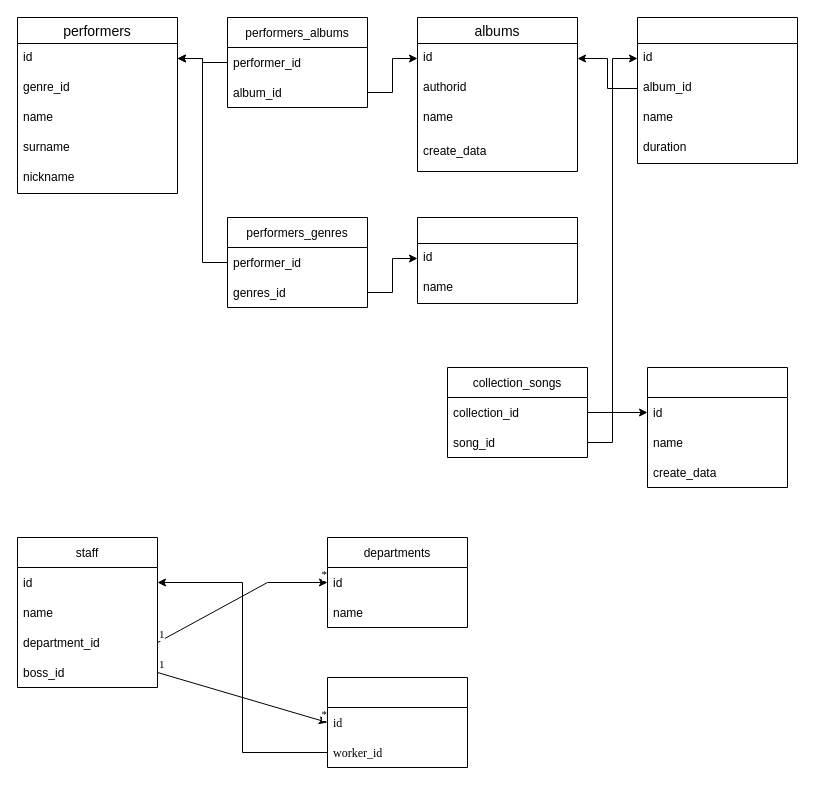
Image size: 815x785. Some labels were removed from this diagram. Here are the shapes that lost their labels. From the top down, the box of each, then its label:
(636, 16, 798, 164): songs
(416, 216, 578, 304): genres
(646, 366, 788, 488): collections
(326, 676, 468, 768): bosses
